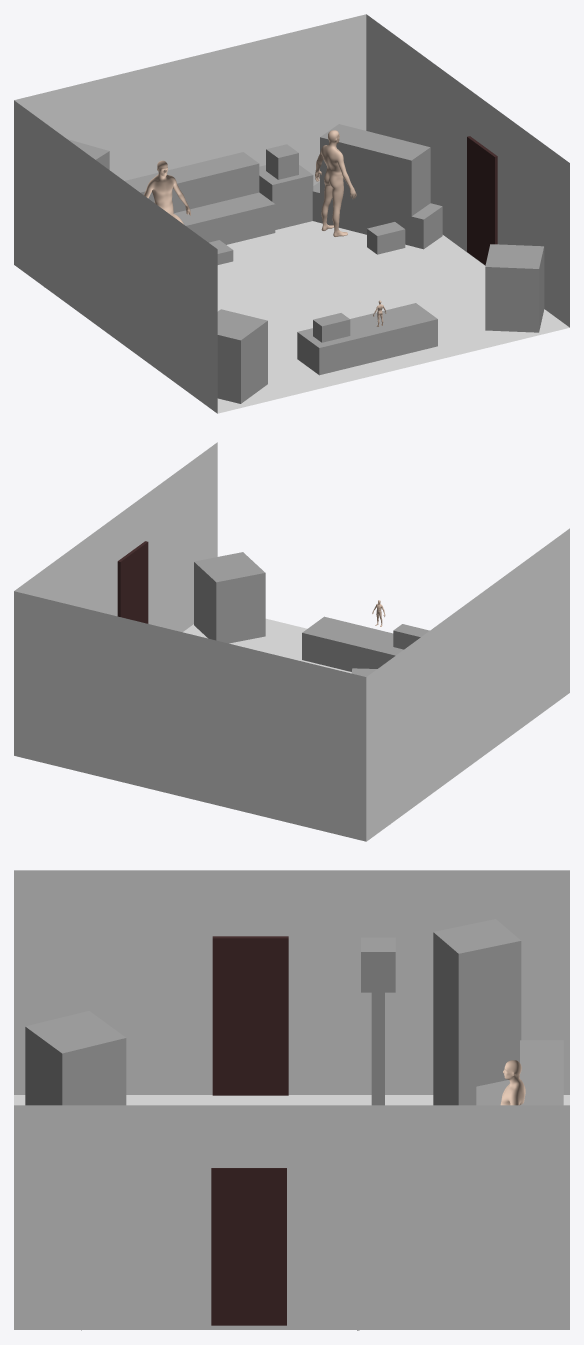
The model's file is Blockout_Livingroom.fbx.
3 renders of one model, top to bottom at view 1: azimuth 30°, elevation 25°; view 2: azimuth 150°, elevation 25°; view 3: azimuth 270°, elevation 25°, orthographic. The views are drawn at different scales.
Visible parts, largest first — view 1: Walls_floor, Sofa, TV, Sofatable, Armchair2, Armchair, Door, TV_table, Side_table, Bigboi, Sittingboi, Game_console (+2 smaller); view 2: Walls_floor, Armchair2, Sofatable, Door, Radio; view 3: Walls_floor, Bookshelf, Door1, Door, Armchair, Lamp, Sofa, Sittingboi.
Boxes of the visible parts, x1=… form: Walls_floor: x1=14, y1=14, x2=569, y2=413; Sofa: x1=125, y1=152, x2=275, y2=244; TV: x1=320, y1=124, x2=430, y2=219; Sofatable: x1=297, y1=303, x2=437, y2=375; Armchair2: x1=485, y1=244, x2=544, y2=332; Armchair: x1=217, y1=309, x2=267, y2=403; Door: x1=467, y1=136, x2=497, y2=265; TV_table: x1=312, y1=182, x2=442, y2=249; Side_table: x1=259, y1=165, x2=313, y2=229; Bigboi: x1=315, y1=130, x2=356, y2=236; Sittingboi: x1=144, y1=160, x2=190, y2=224; Game_console: x1=367, y1=222, x2=405, y2=254; Walls_floor: x1=14, y1=442, x2=569, y2=841; Armchair2: x1=194, y1=552, x2=265, y2=643; Sofatable: x1=302, y1=616, x2=403, y2=671; Door: x1=117, y1=541, x2=148, y2=623; Radio: x1=393, y1=624, x2=429, y2=649; Walls_floor: x1=14, y1=870, x2=569, y2=1329; Bookshelf: x1=433, y1=919, x2=521, y2=1105; Door1: x1=212, y1=936, x2=288, y2=1095; Door: x1=211, y1=1168, x2=286, y2=1325; Armchair: x1=25, y1=1011, x2=126, y2=1105; Lamp: x1=361, y1=937, x2=395, y2=1105; Sofa: x1=476, y1=1040, x2=563, y2=1105; Sittingboi: x1=500, y1=1060, x2=525, y2=1105.
Size of the model in its own units: 2101 by 955 by 2100.
